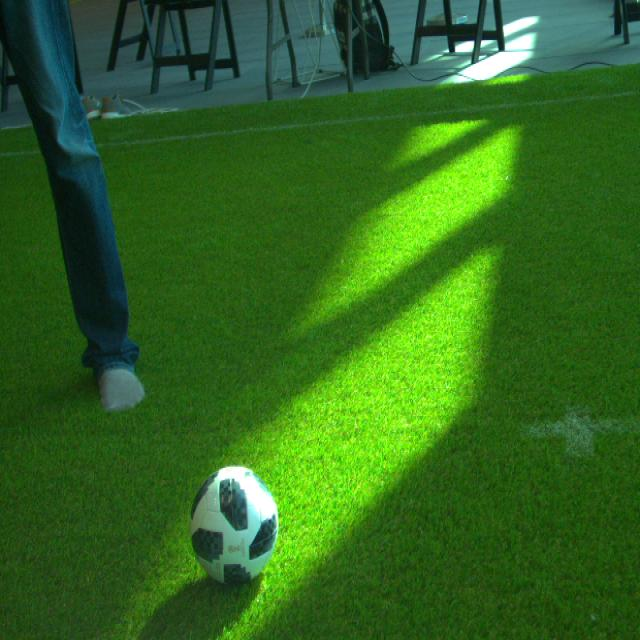ball: (189, 466, 279, 590)
